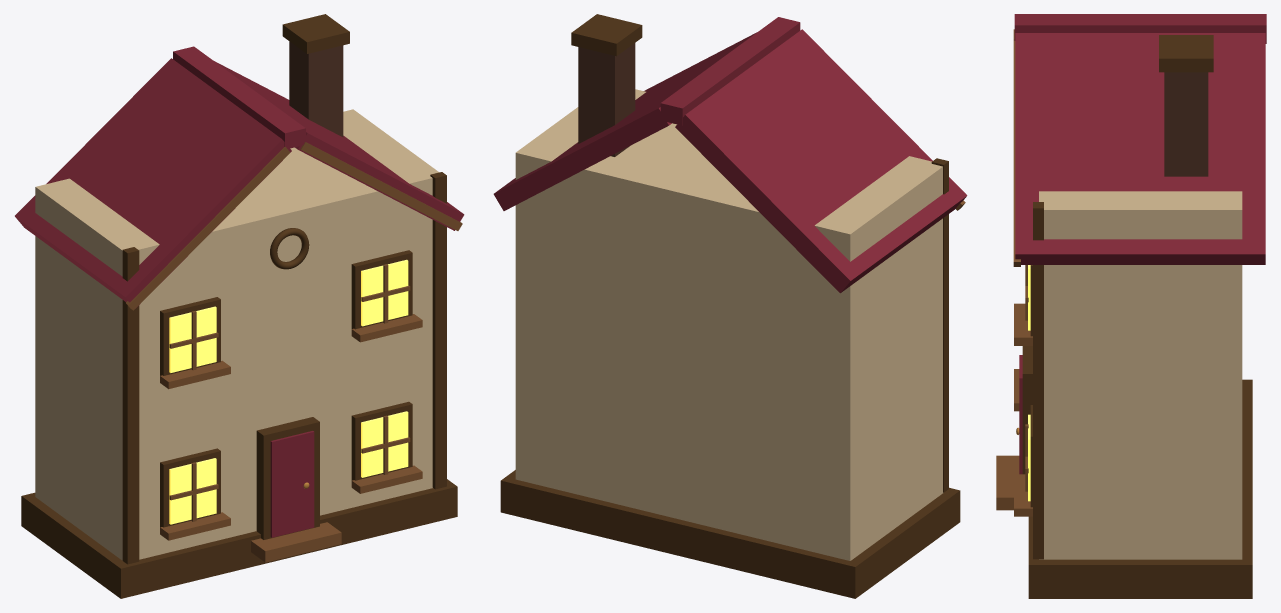
Rendered from mia-dollhouse.glb.
3 renders of one model, left to right at view 1: azimuth 30°, elevation 25°; view 2: azimuth 150°, elevation 25°; view 3: azimuth 270°, elevation 25°, orthographic. The views are drawn at different scales.
Parts seen in each view (by area): view 1: Body_ivory, Body_velvet, Body_wood, Body_oak, Body_amber, Body_glaze; view 2: Body_ivory, Body_velvet, Body_wood, Body_glaze; view 3: Body_ivory, Body_velvet, Body_wood, Body_glaze, Body_oak, Body_amber.
Boxes of the visible parts, x1=… form: Body_ivory: x1=35, y1=109, x2=439, y2=560; Body_velvet: x1=15, y1=46, x2=464, y2=537; Body_wood: x1=21, y1=14, x2=457, y2=598; Body_oak: x1=126, y1=142, x2=462, y2=562; Body_amber: x1=169, y1=259, x2=408, y2=524; Body_glaze: x1=289, y1=41, x2=343, y2=137; Body_ivory: x1=515, y1=89, x2=943, y2=560; Body_velvet: x1=493, y1=17, x2=967, y2=293; Body_wood: x1=500, y1=14, x2=960, y2=598; Body_glaze: x1=578, y1=43, x2=635, y2=156; Body_ivory: x1=1039, y1=191, x2=1242, y2=559; Body_velvet: x1=1014, y1=14, x2=1266, y2=474; Body_wood: x1=1022, y1=35, x2=1252, y2=598; Body_glaze: x1=1164, y1=72, x2=1208, y2=176; Body_oak: x1=996, y1=29, x2=1032, y2=516; Body_amber: x1=1028, y1=265, x2=1030, y2=501.
Size of the model in its own units: 1.64 by 2.1 by 1.01.
